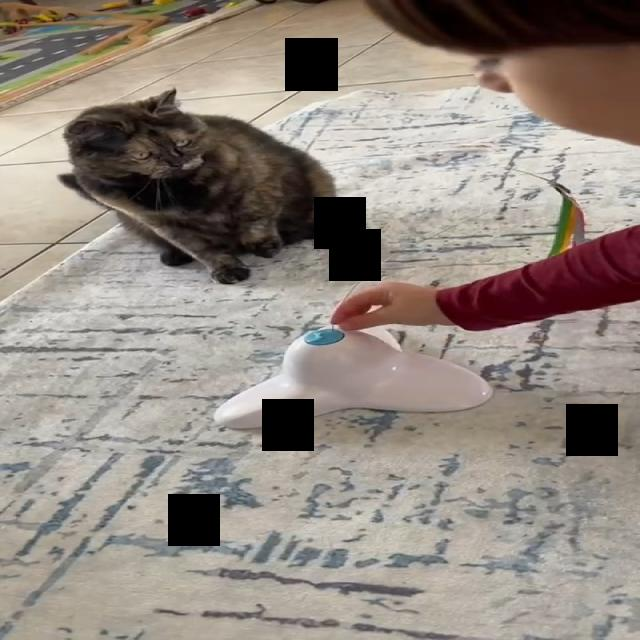authorized: (56, 87, 336, 284)
